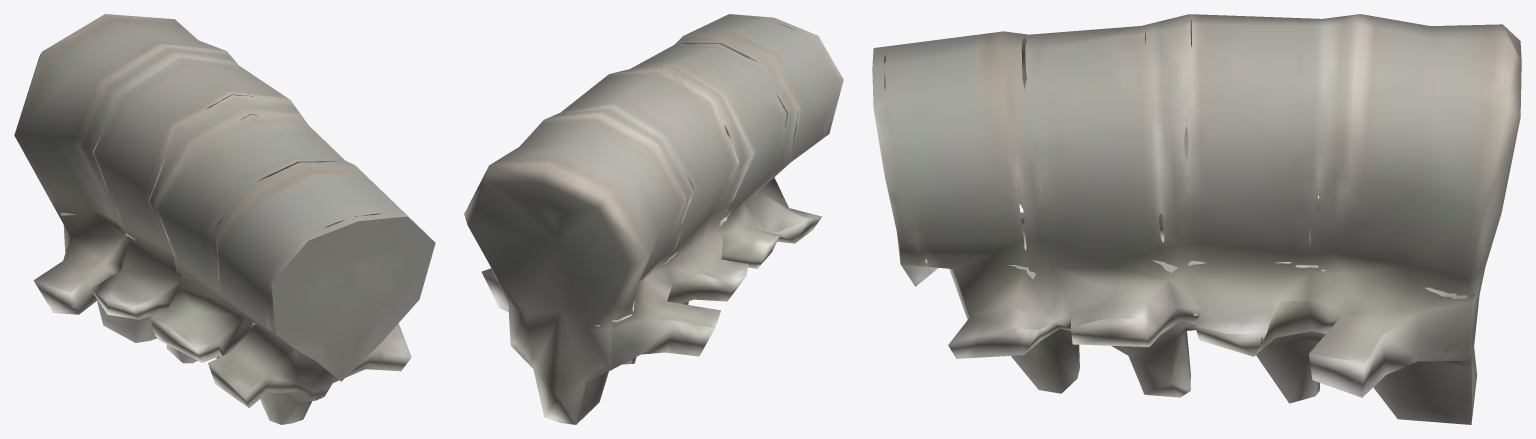
3 views of the same model, side by side, from view 1: azimuth 30°, elevation 25°; view 2: azimuth 150°, elevation 25°; view 3: azimuth 270°, elevation 25° (orthographic). The views are drawn at different scales.
Parts seen in each view (by area): view 1: SM_Neck_LOD0; view 2: SM_Neck_LOD0; view 3: SM_Neck_LOD0.
Boxes of the visible parts, x1,y1,x2,y2 form: SM_Neck_LOD0: (14,14,435,424); SM_Neck_LOD0: (464,14,843,424); SM_Neck_LOD0: (872,14,1521,424).
Bounding box in the file's own units: 0.0825 × 0.0945 × 0.1419.
Materials: 1 (1 with a texture image).
